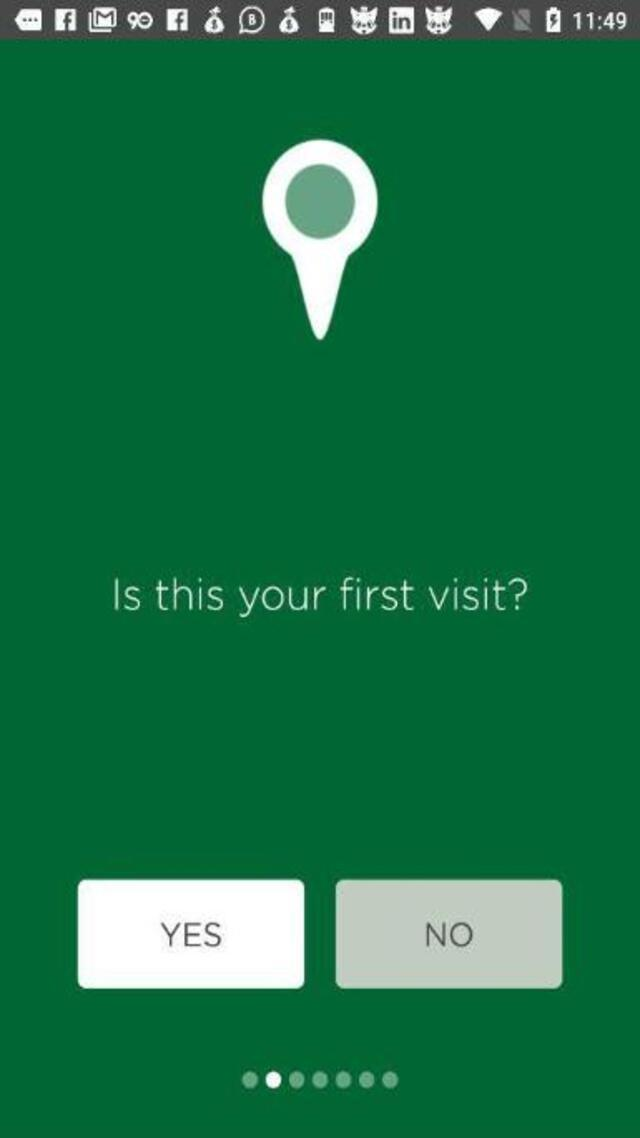Icon: (261, 138, 377, 339)
Text: (112, 575, 526, 616), (154, 918, 226, 951), (419, 919, 475, 953)
TextButton: (336, 878, 562, 989), (78, 878, 304, 989)
